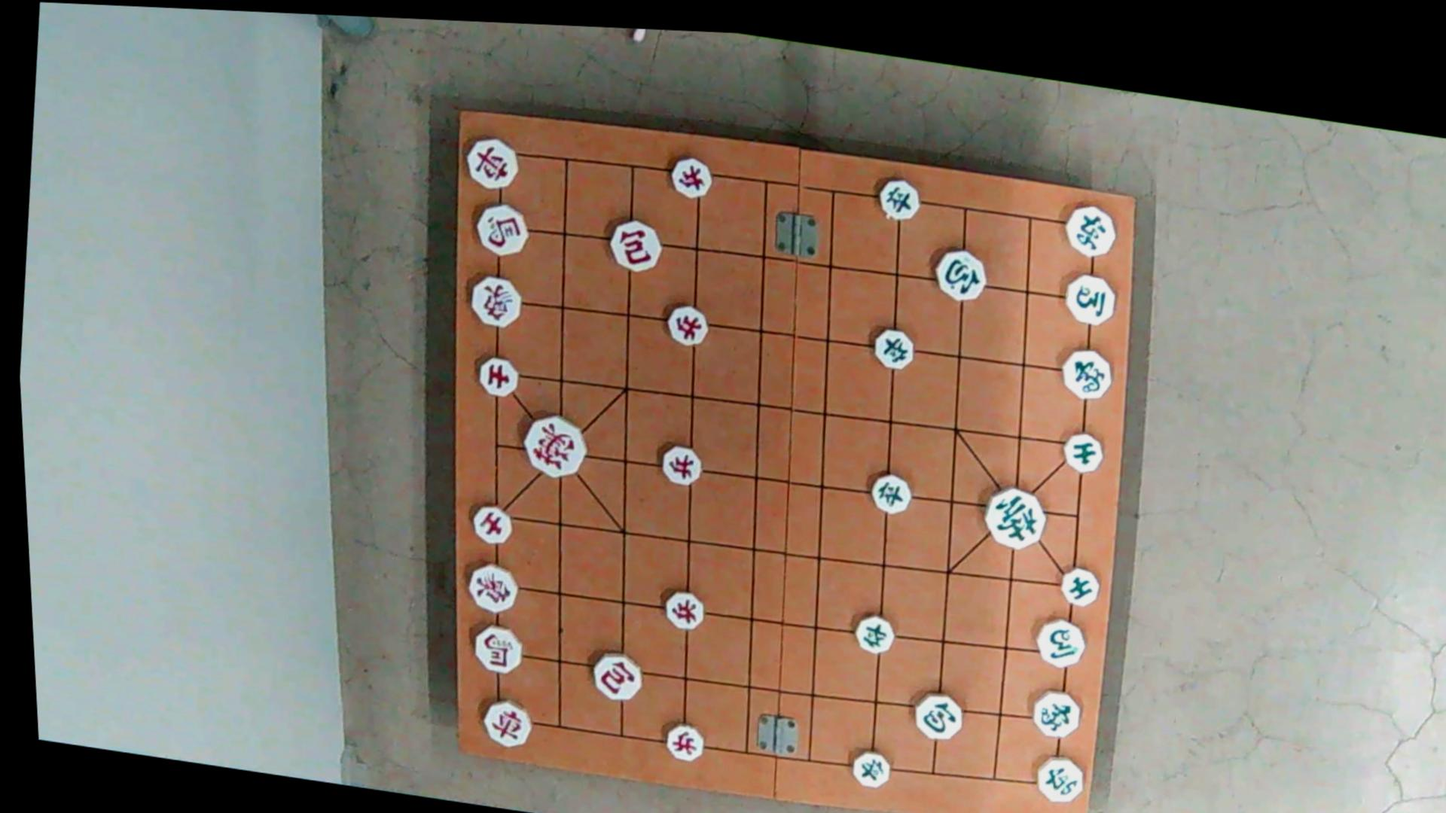cha_green: (1058, 201, 1117, 255), (1029, 754, 1085, 803)
cha_red: (460, 133, 524, 188), (478, 699, 536, 748)
jol_green: (872, 175, 923, 218), (868, 327, 917, 370), (848, 612, 898, 653), (867, 471, 914, 513), (847, 749, 893, 787)
jol_red: (658, 302, 710, 343), (667, 155, 715, 197), (659, 590, 706, 632), (653, 443, 701, 484), (659, 721, 706, 761)
ma_green: (1058, 271, 1118, 326), (1028, 617, 1086, 668)
ma_red: (468, 204, 529, 257), (465, 621, 525, 672)
po_green: (926, 244, 988, 302), (909, 688, 966, 744)
po_red: (602, 217, 662, 269), (586, 650, 645, 700)
sa_green: (1057, 429, 1105, 473), (1053, 565, 1100, 608)
sa_red: (472, 355, 523, 400), (466, 502, 514, 548)
sang_green: (1054, 345, 1112, 397), (1028, 687, 1083, 741)
sang_red: (465, 273, 526, 327), (462, 560, 521, 611)
wang_green: (978, 486, 1048, 550)
wang_red: (518, 413, 591, 477)
